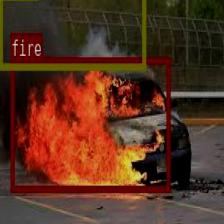fire: (10, 56, 169, 190)
smoke: (0, 0, 145, 69)
